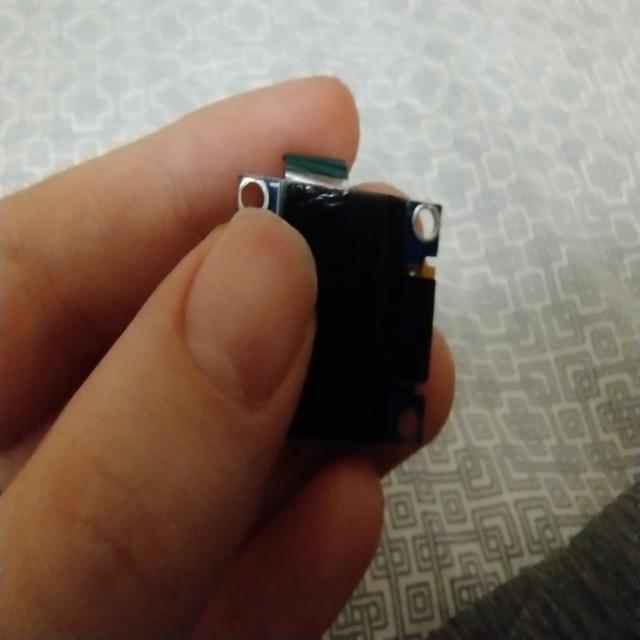oled: (236, 165, 448, 462)
